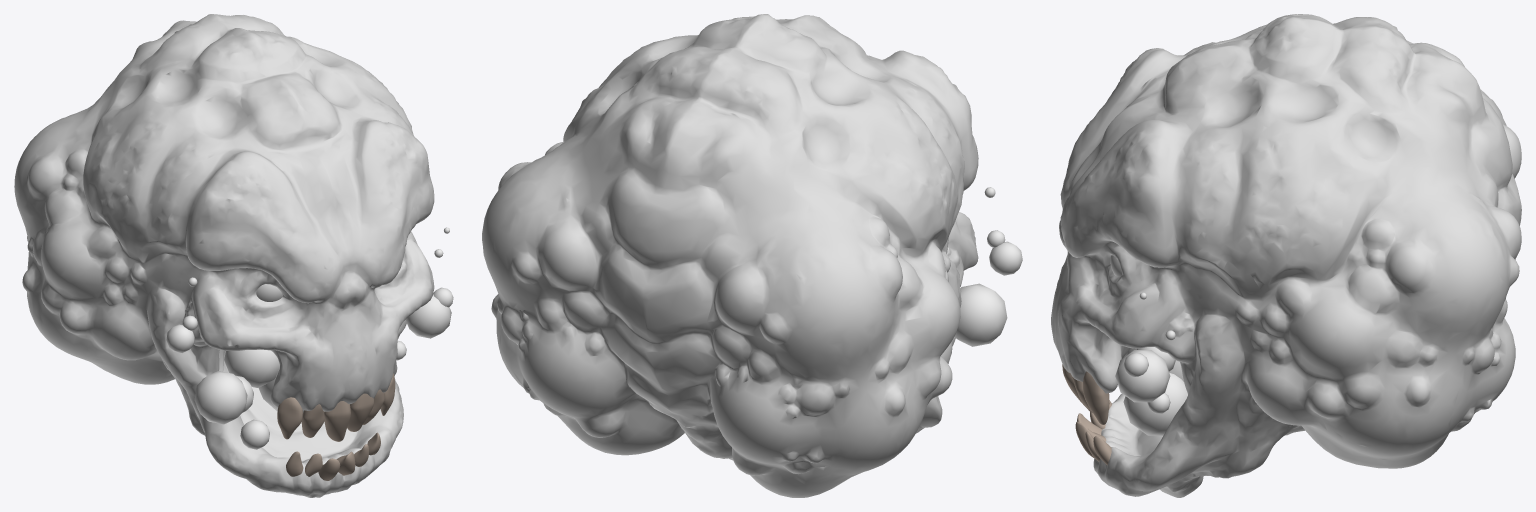
The model's file is DEMON.fbx.
3 views of the same model, side by side, from view 1: azimuth 30°, elevation 25°; view 2: azimuth 150°, elevation 25°; view 3: azimuth 270°, elevation 25° (orthographic). The views are drawn at different scales.
Visible parts, largest first — view 1: Esfera geodésica; view 2: Esfera geodésica; view 3: Esfera geodésica.
Boxes of the visible parts, x1,y1,x2,y2 form: Esfera geodésica: [14, 14, 453, 497]; Esfera geodésica: [482, 14, 1022, 497]; Esfera geodésica: [1051, 14, 1521, 497].
Bounding box in the file's own units: 548 × 599 × 534.
